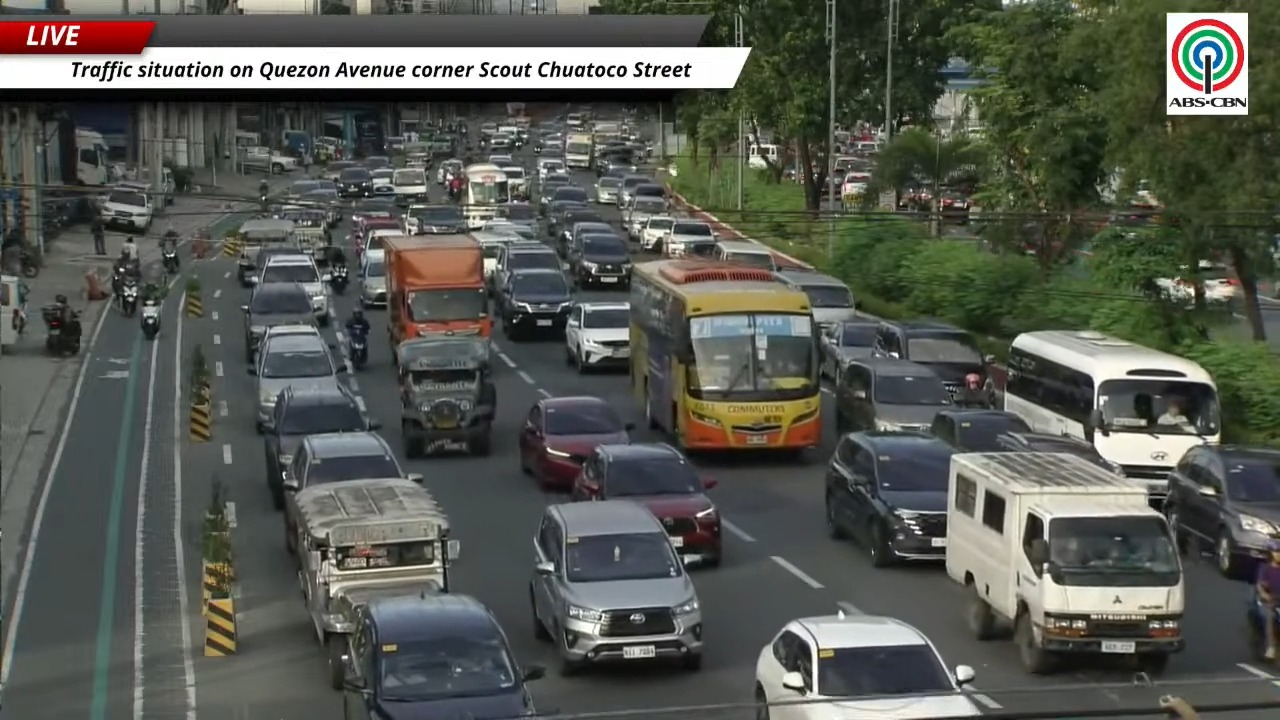bus: (630, 259, 821, 450), (1003, 331, 1220, 499), (463, 164, 509, 229)
car: (530, 500, 702, 675), (341, 592, 544, 719), (754, 611, 980, 719), (571, 443, 722, 566), (824, 431, 953, 566), (283, 431, 422, 551), (1163, 445, 1279, 578), (263, 386, 378, 509), (519, 396, 633, 490), (248, 326, 344, 431), (834, 357, 954, 432), (877, 320, 991, 394), (242, 283, 314, 362), (255, 254, 330, 326), (996, 433, 1122, 475), (498, 268, 572, 339), (776, 269, 858, 328), (929, 407, 1031, 452), (565, 302, 628, 372), (491, 240, 562, 296), (819, 320, 878, 384), (568, 231, 631, 289), (471, 230, 522, 294), (237, 244, 311, 287), (557, 217, 613, 268), (549, 207, 606, 254), (100, 186, 152, 232), (659, 219, 715, 256), (299, 180, 342, 227), (715, 240, 777, 271), (402, 204, 465, 234), (358, 250, 387, 306), (543, 200, 586, 237), (633, 216, 675, 251), (361, 227, 402, 259), (392, 167, 428, 203), (539, 173, 572, 212), (616, 175, 653, 208), (623, 179, 666, 206), (496, 202, 537, 230), (481, 220, 537, 240), (336, 165, 371, 197), (938, 191, 970, 222), (596, 152, 637, 176), (500, 165, 529, 198), (321, 160, 357, 182), (370, 167, 396, 196), (435, 158, 463, 184), (550, 185, 589, 203), (595, 177, 620, 205), (537, 157, 565, 181), (287, 179, 319, 198), (363, 155, 392, 171), (600, 167, 634, 180), (488, 154, 513, 167)
motorcycle: (42, 305, 79, 355), (140, 298, 160, 340), (118, 278, 138, 316), (348, 332, 367, 370), (20, 247, 39, 278), (329, 264, 348, 294), (163, 248, 179, 273), (259, 192, 269, 215), (447, 186, 461, 202), (533, 142, 543, 154)
truck: (945, 452, 1184, 674), (383, 234, 491, 351), (238, 146, 297, 174), (564, 134, 593, 169)
